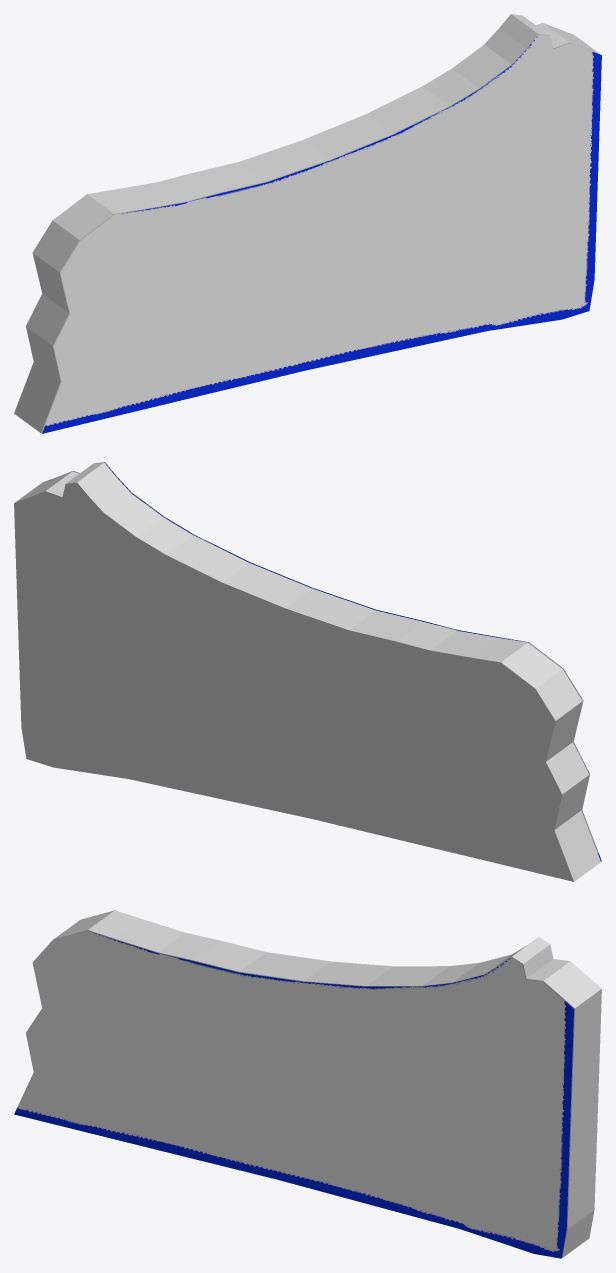
3 views of the same model, one above another, from view 1: azimuth 30°, elevation 25°; view 2: azimuth 150°, elevation 25°; view 3: azimuth 330°, elevation 25° (orthographic).
Visible parts, largest first — view 1: Out_4_1, Out_4_0; view 2: Out_4_0, Out_4_1; view 3: Out_4_1, Out_4_0.
Boxes of the visible parts, bbox=[...] form: Out_4_1: bbox=[42, 34, 601, 433]; Out_4_0: bbox=[14, 14, 600, 433]; Out_4_0: bbox=[14, 462, 600, 881]; Out_4_1: bbox=[42, 462, 601, 861]; Out_4_1: bbox=[14, 930, 573, 1258]; Out_4_0: bbox=[53, 910, 601, 1257].
Bounding box in the file's own units: 5.97 × 2.96 × 0.515.
2 materials, 1 textured.
